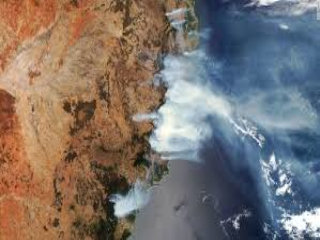smoke: (145, 46, 233, 171), (109, 175, 162, 218)
